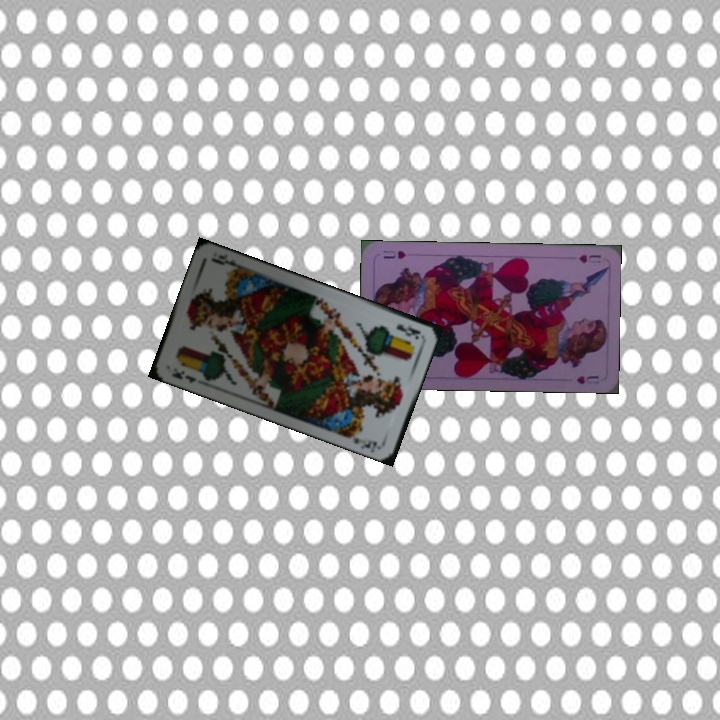EK: (392, 320, 423, 342), (167, 367, 198, 386)
HU: (575, 251, 603, 265)
